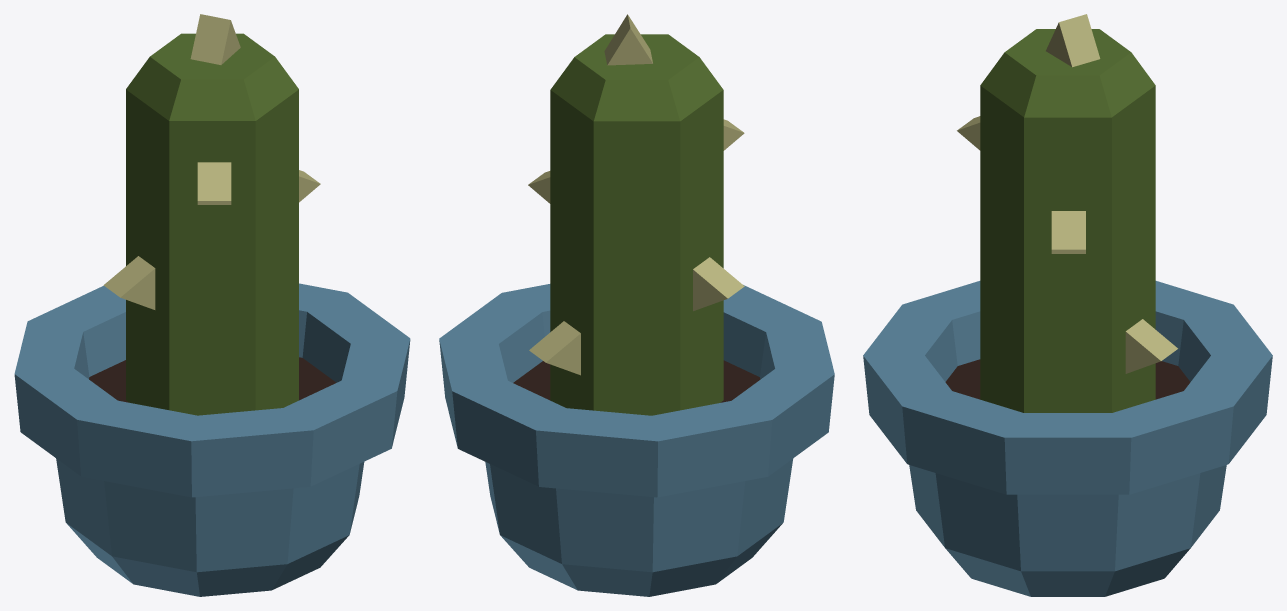
The model's file is cactus2.fbx.
3 views of the same model, side by side, from view 1: azimuth 30°, elevation 25°; view 2: azimuth 150°, elevation 25°; view 3: azimuth 270°, elevation 25° (orthographic).
Visible parts, largest first — view 1: cactus.002; view 2: cactus.002; view 3: cactus.002.
Boxes of the visible parts, x1,y1,x2,y2 form: cactus.002: (14, 14, 410, 596); cactus.002: (439, 14, 834, 596); cactus.002: (863, 14, 1272, 596).
Bounding box in the file's own units: 49.88 × 75.36 × 52.45.
